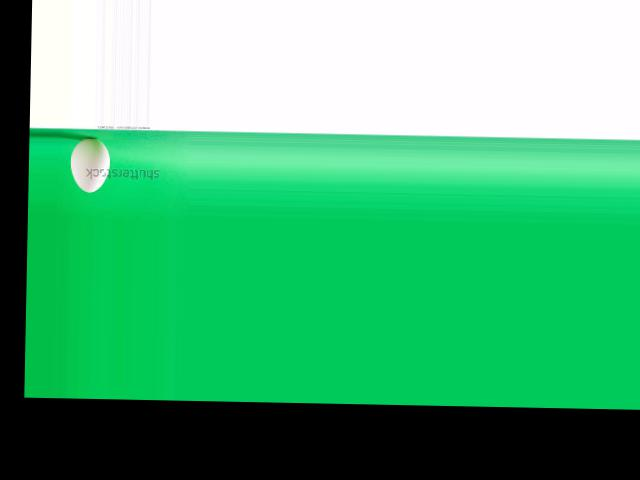egg: (69, 136, 109, 192)
